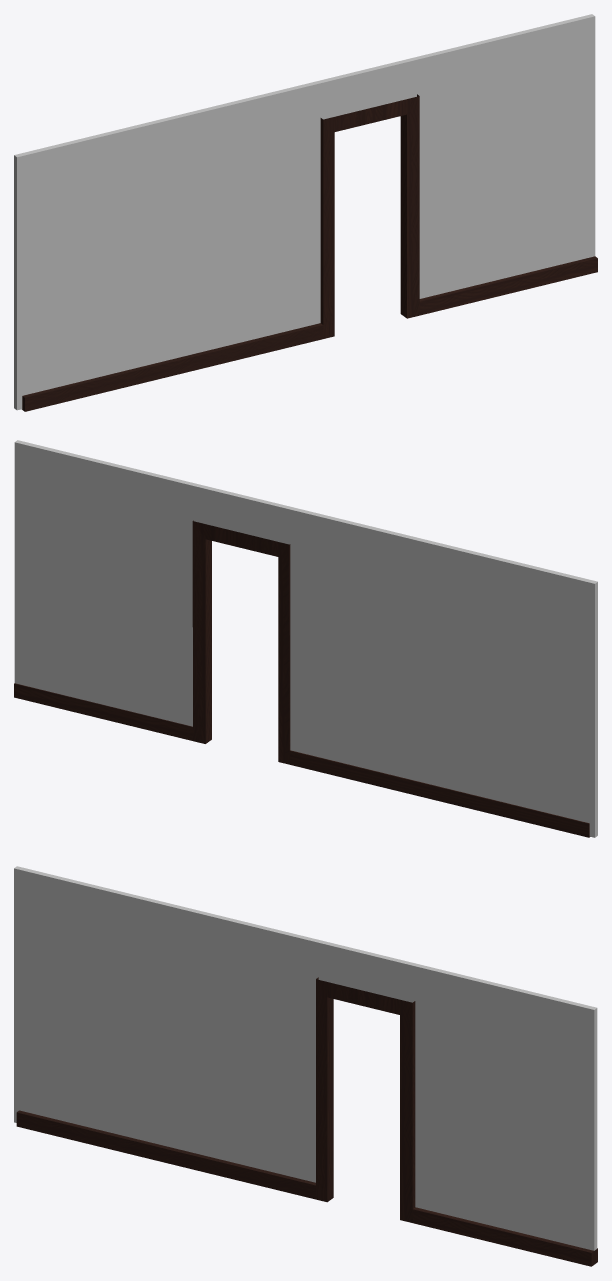
Rendered from FrontDoorWall.fbx.
The picture shows the model from 3 angles, top to bottom: view 1: azimuth 30°, elevation 25°; view 2: azimuth 150°, elevation 25°; view 3: azimuth 330°, elevation 25°; orthographic projection.
Visible parts, largest first — view 1: wall02, polySurface3; view 2: wall02, polySurface3; view 3: wall02, polySurface3.
Boxes of the visible parts, bbox=[...] form: wall02: bbox=[14, 14, 595, 410]; polySurface3: bbox=[22, 94, 597, 411]; wall02: bbox=[14, 440, 597, 837]; polySurface3: bbox=[14, 520, 589, 837]; wall02: bbox=[14, 866, 597, 1250]; polySurface3: bbox=[16, 977, 597, 1266].
Bounding box in the file's own units: 19.98 × 8.38 × 0.4008.
